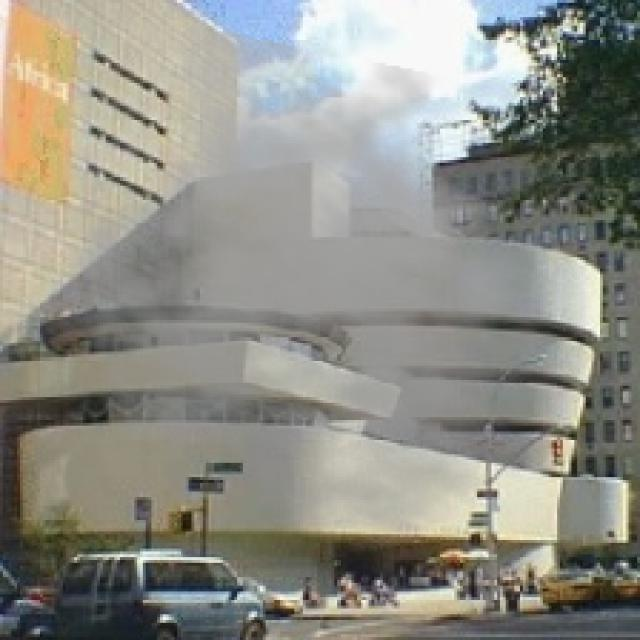Smoke: (42, 22, 574, 548)
